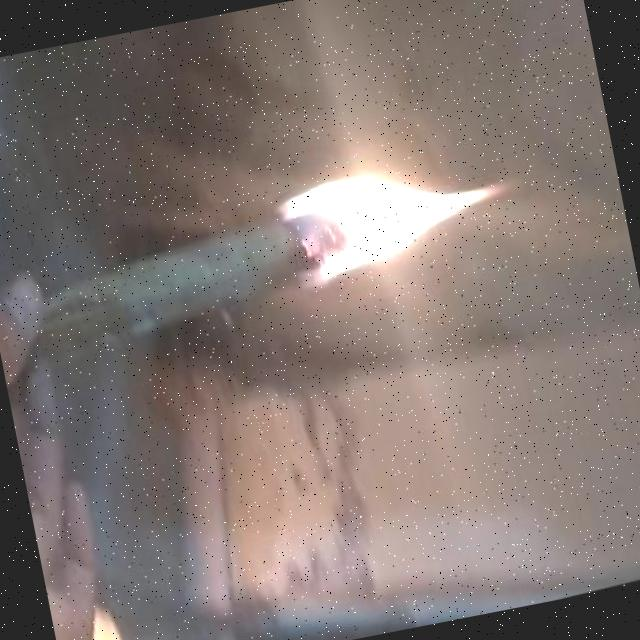fire: (266, 117, 531, 316)
